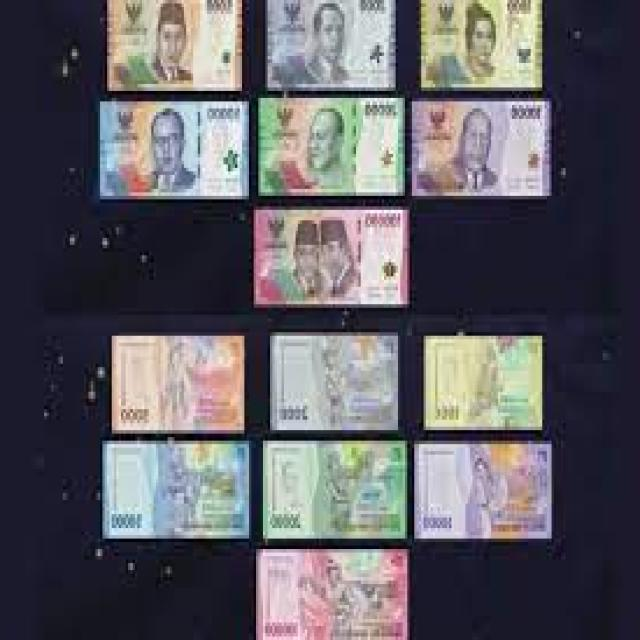dua puluh ribu rupiah: (262, 439, 406, 547), (257, 97, 405, 198)
dua ribu rupiah: (270, 333, 400, 434), (266, 0, 397, 93)
lima puluh ribu rupiah: (92, 103, 248, 210), (101, 442, 250, 536)
lima ribu rupiah: (110, 336, 244, 436), (104, 0, 242, 93)
sepuluh ribu rupiah: (411, 436, 549, 543), (409, 103, 552, 197)
seratus ribu rupiah: (252, 208, 411, 310), (253, 549, 409, 640)
seribu rupiah: (423, 335, 542, 431), (420, 0, 542, 91)
